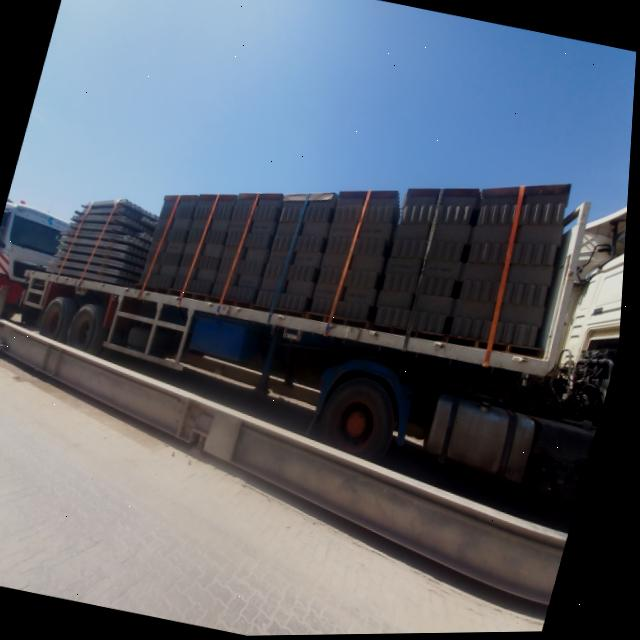bricks: (275, 184, 570, 348), (226, 193, 305, 308), (140, 194, 215, 290), (186, 193, 255, 297)
